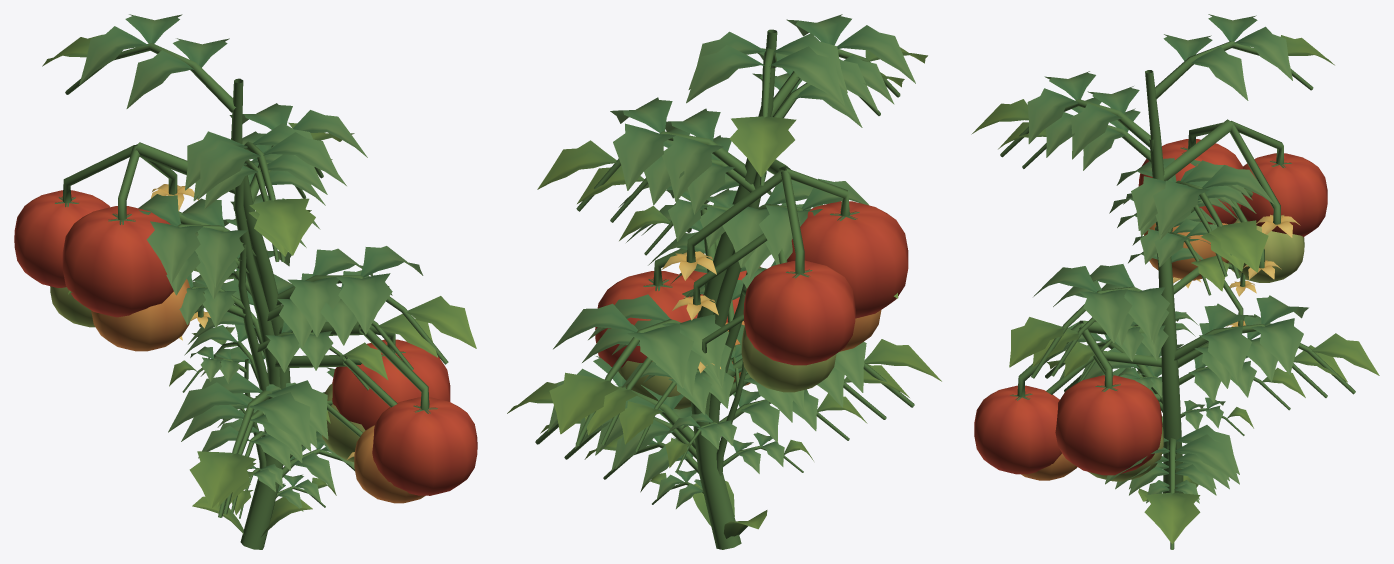
Rendered from tomato.glb.
The picture shows the model from 3 angles, left to right: view 1: azimuth 30°, elevation 25°; view 2: azimuth 150°, elevation 25°; view 3: azimuth 270°, elevation 25°; orthographic projection. The views are drawn at different scales.
Visible parts, largest first — view 1: Phase4, Phase3, Phase2, Phase1, Phase0; view 2: Phase4, Phase3, Phase2, Phase1, Phase0; view 3: Phase4, Phase3, Phase2, Phase1.
Part boxes in pixels (x1=…): Phase4: x1=14, y1=14, x2=477, y2=549; Phase3: x1=50, y1=145, x2=437, y2=514; Phase2: x1=179, y1=194, x2=387, y2=513; Phase1: x1=169, y1=346, x2=336, y2=518; Phase0: x1=192, y1=496, x2=312, y2=536; Phase4: x1=507, y1=14, x2=941, y2=549; Phase3: x1=540, y1=54, x2=909, y2=468; Phase2: x1=584, y1=188, x2=867, y2=486; Phase1: x1=640, y1=344, x2=813, y2=508; Phase0: x1=692, y1=481, x2=767, y2=538; Phase4: x1=971, y1=14, x2=1379, y2=549; Phase3: x1=998, y1=97, x2=1347, y2=489; Phase2: x1=1064, y1=218, x2=1305, y2=495; Phase1: x1=1118, y1=311, x2=1253, y2=503.
Bounding box in the file's own units: 0.7431 × 0.9443 × 0.7611.
